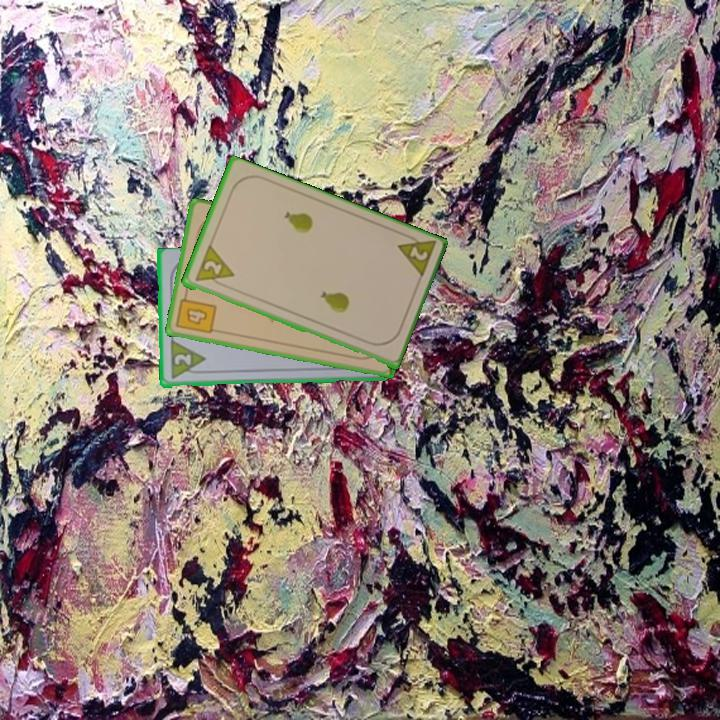2p: (393, 229, 438, 282), (200, 257, 225, 278), (170, 350, 194, 368)
4b: (173, 289, 219, 337)
